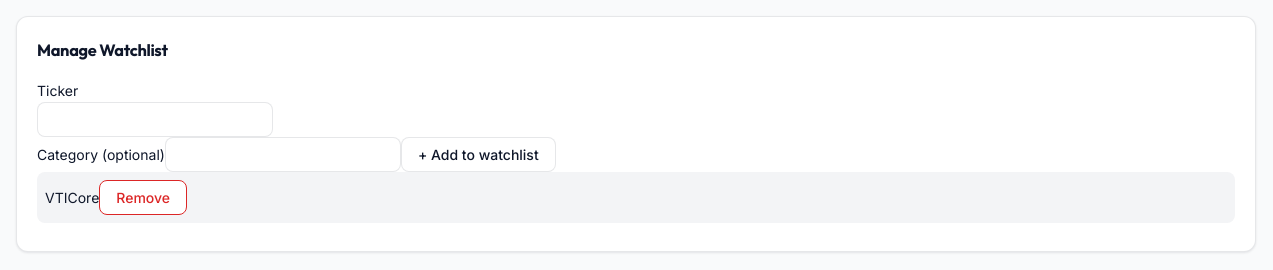
Test: WatchlistManagementPage › clicking Remove on an item removes it from the list
Expected: the text "VTI" is shown, 45,189 -> 68,206
Step 1. Click the button "Remove" → (143, 198), box 99,180 -> 187,215
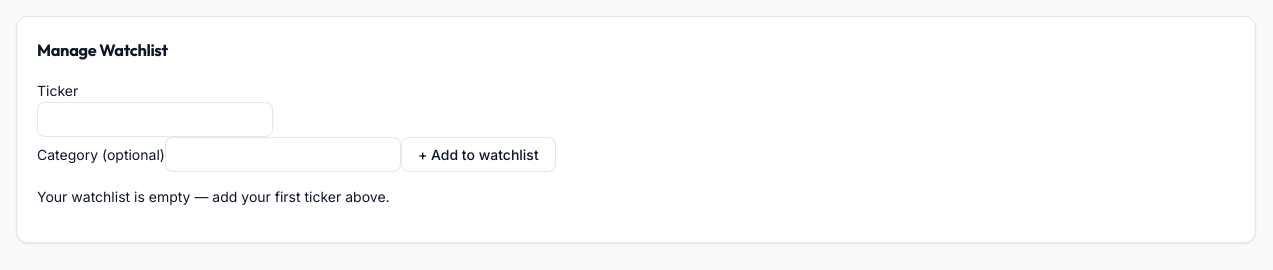
Expected: the text "Your watchlist is empty — add your first ticker above." is shown, 37,188 -> 390,205
